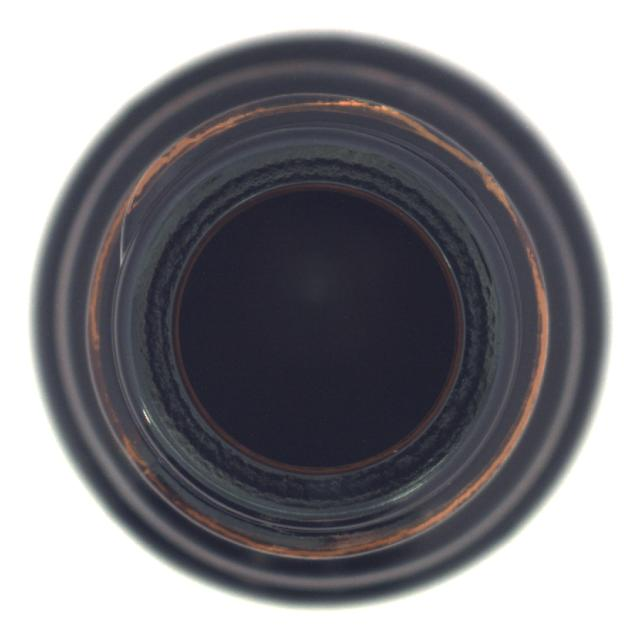bottle-good: (29, 31, 599, 604)
